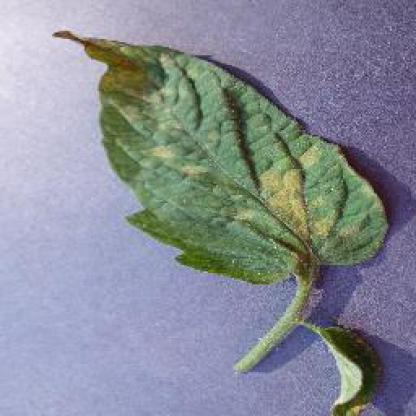bad leaf: (52, 23, 401, 414)
